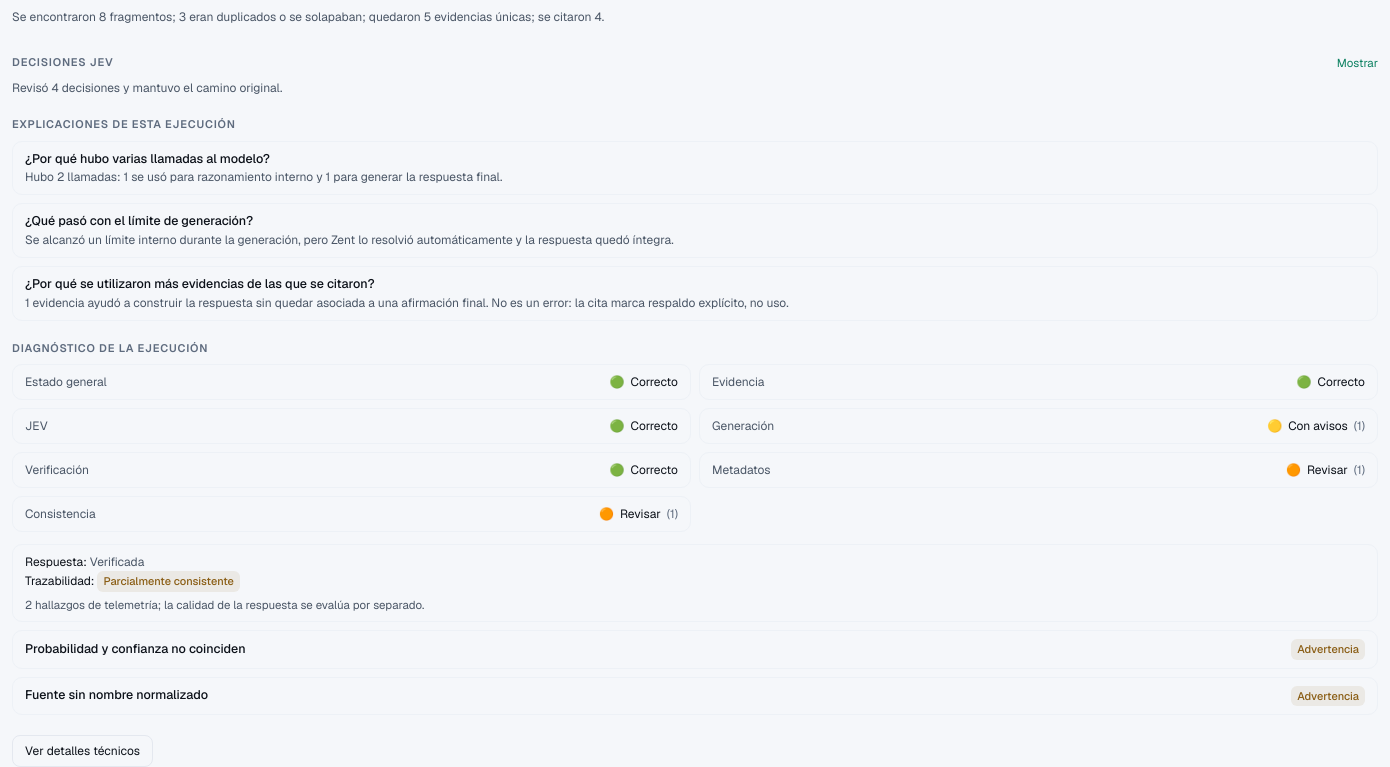
TraceV2Story › muestra cada diagnóstico con las tres preguntas y el código al final
(page scrolled)
Click the text "Probabilidad y confianza no coinciden": (135, 649) [25,640,246,659]
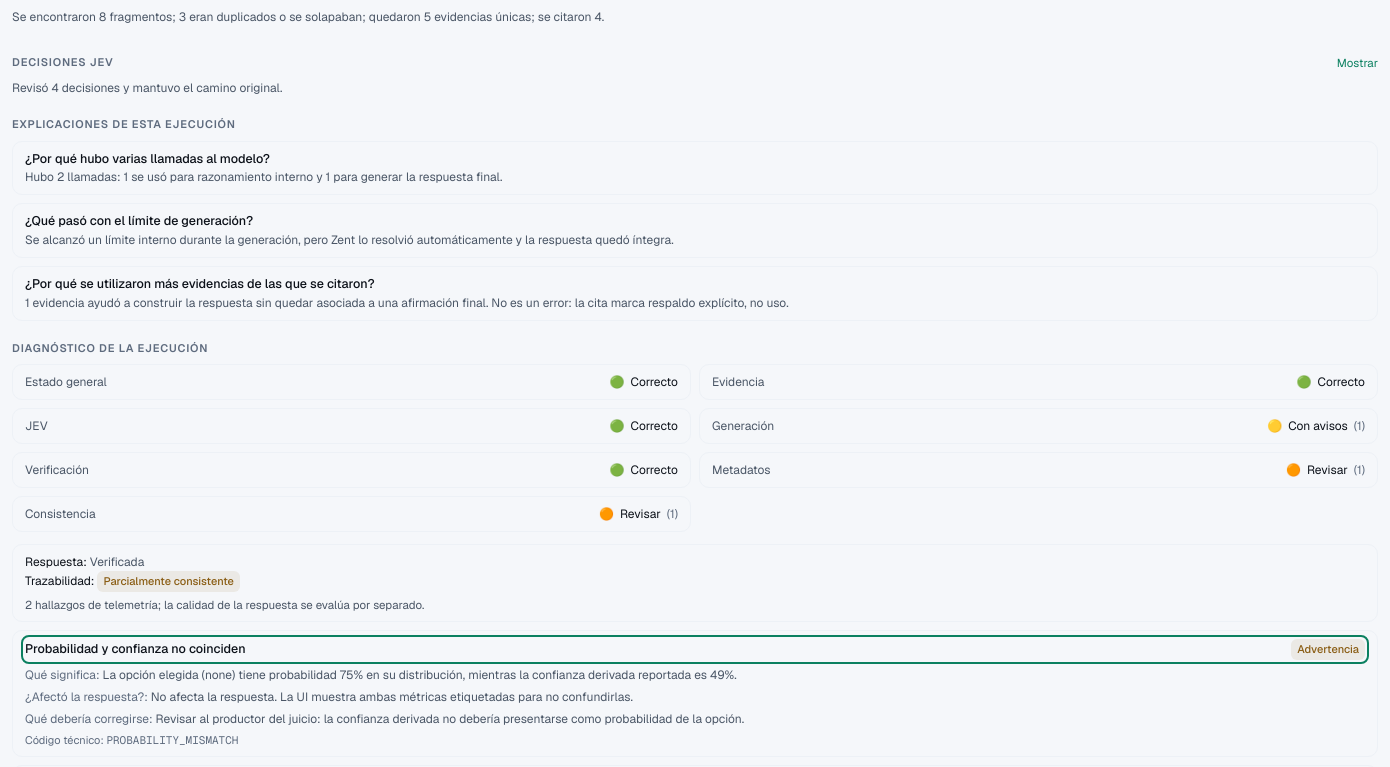
Expected: the text "Qué significa:" is shown, [25,667,102,683]
Expected: the text "¿Afectó la respuesta?:" is shown, [25,689,151,705]
Expected: the text "Qué debería corregirse:" is shown, [25,711,156,727]
